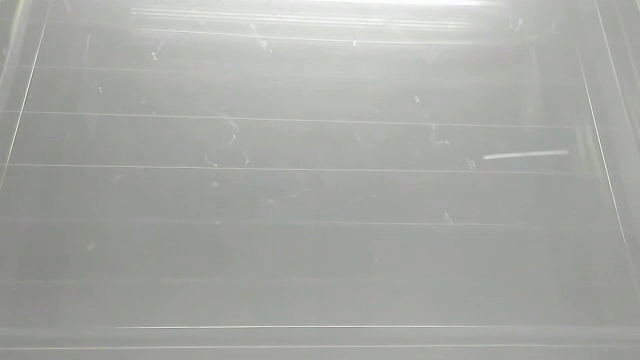alpha: (480, 147, 573, 166)
